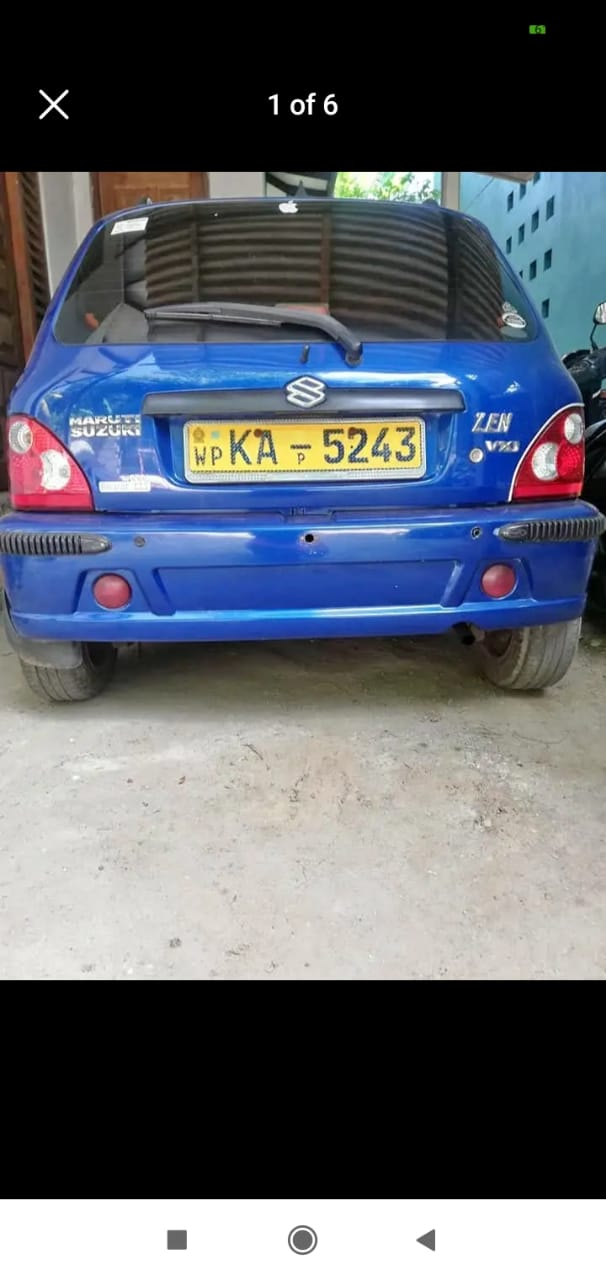number_plate: (179, 414, 429, 480)
